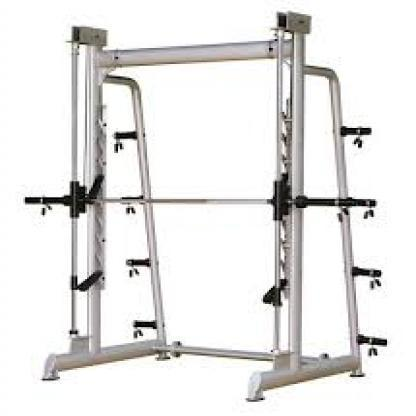smith machine: (23, 10, 388, 403)
